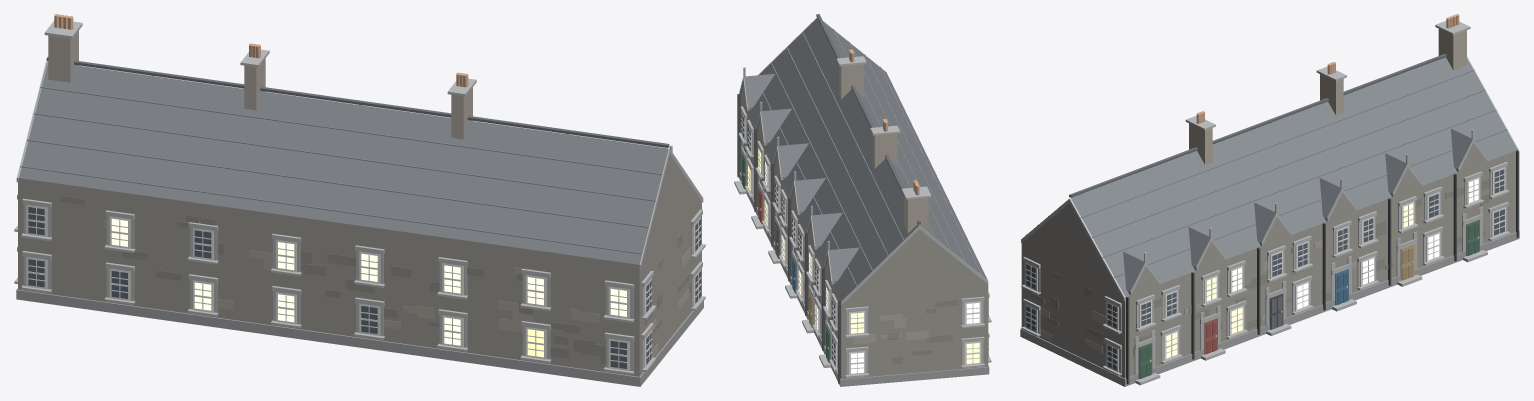
3 renders of one model, left to right at view 1: azimuth 30°, elevation 25°; view 2: azimuth 150°, elevation 25°; view 3: azimuth 270°, elevation 25°, orthographic. The views are drawn at different scales.
Parts seen in each view (by area): view 1: slate, rubble, dress_dark, plinth, windows, frame, slate_lt, rubble_dk, chim_stone, slate_dk, rubble_lt, pot; view 2: slate, rubble, dress_dark, frame, slate_lt, windows, chim_stone, pipe, plinth, rubble_dk, rubble_lt, slate_dk (+1 smaller); view 3: slate, rubble, dress_dark, frame, windows, plinth, slate_lt, pipe, chim_stone, rubble_dk, slate_dk, rubble_lt (+2 smaller).
Boxes of the visible parts, left/top/right/bottom form: slate: left=19, top=61, right=668, bottom=264; rubble: left=18, top=155, right=701, bottom=376; dress_dark: left=14, top=20, right=705, bottom=375; plinth: left=16, top=288, right=703, bottom=386; windows: left=28, top=207, right=700, bottom=368; frame: left=26, top=204, right=701, bottom=371; slate_lt: left=20, top=86, right=662, bottom=254; rubble_dk: left=60, top=196, right=690, bottom=363; chim_stone: left=48, top=30, right=472, bottom=139; slate_dk: left=46, top=57, right=669, bottom=147; rubble_lt: left=103, top=220, right=690, bottom=357; pot: left=54, top=14, right=468, bottom=87; slate: left=741, top=18, right=987, bottom=301; rubble: left=740, top=84, right=988, bottom=379; dress_dark: left=734, top=18, right=991, bottom=378; frame: left=741, top=112, right=988, bottom=375; slate_lt: left=762, top=29, right=981, bottom=286; windows: left=741, top=114, right=988, bottom=373; chim_stone: left=839, top=64, right=928, bottom=232; pipe: left=737, top=94, right=840, bottom=383; plinth: left=738, top=172, right=989, bottom=386; rubble_dk: left=743, top=123, right=958, bottom=363; rubble_lt: left=757, top=163, right=961, bottom=344; slate_dk: left=816, top=14, right=920, bottom=224; slate: left=1071, top=57, right=1517, bottom=296; rubble: left=1021, top=143, right=1518, bottom=378; dress_dark: left=1021, top=21, right=1518, bottom=385; frame: left=1025, top=167, right=1505, bottom=372; windows: left=1026, top=169, right=1504, bottom=370; plinth: left=1020, top=231, right=1519, bottom=386; slate_lt: left=1026, top=70, right=1507, bottom=277; pipe: left=1126, top=150, right=1519, bottom=384; chim_stone: left=1189, top=29, right=1466, bottom=164; rubble_dk: left=1031, top=178, right=1491, bottom=356; slate_dk: left=1069, top=54, right=1446, bottom=197; rubble_lt: left=1040, top=240, right=1356, bottom=353.
Size of the model in its own units: 25.44 by 11.92 by 27.03.
